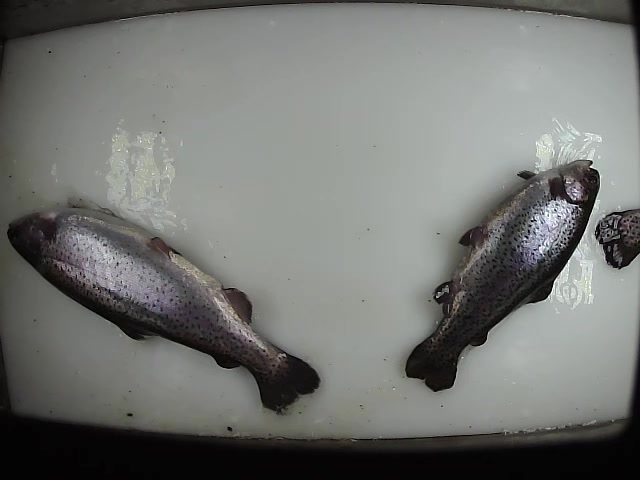fish: (1, 191, 322, 414), (400, 157, 603, 394)
